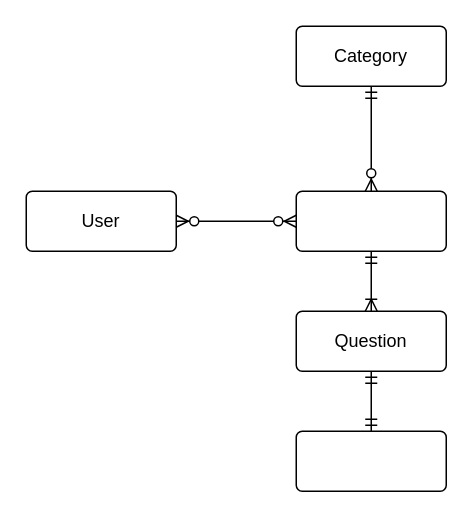
Some shapes in this 473 by 518 pixel diagram are drawn without their labels. The shapes that lost their labels are listed below. From the top down, each one's centre as x and y in pixels, then its label:
the point at 370,220: Test
the point at 370,460: Answer
